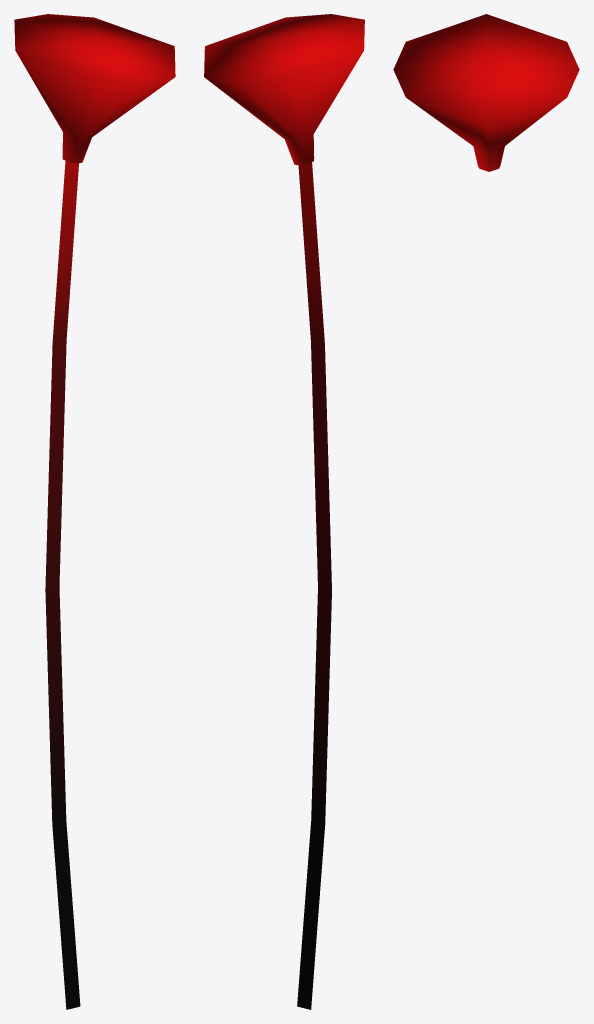
File: SM_Lotus_04_LOD1.fbx
The picture shows the model from 3 angles, left to right: view 1: azimuth 30°, elevation 25°; view 2: azimuth 150°, elevation 25°; view 3: azimuth 270°, elevation 25°; orthographic projection.
Visible parts, largest first — view 1: Lotus_04_LOD1; view 2: Lotus_04_LOD1; view 3: Lotus_04_LOD1.
Part boxes in pixels (<box>): Lotus_04_LOD1: <box>14,14,175,1009</box>; Lotus_04_LOD1: <box>204,14,364,1009</box>; Lotus_04_LOD1: <box>393,14,579,171</box>.
Size of the model in its own units: 35.89 by 209 by 36.65.
